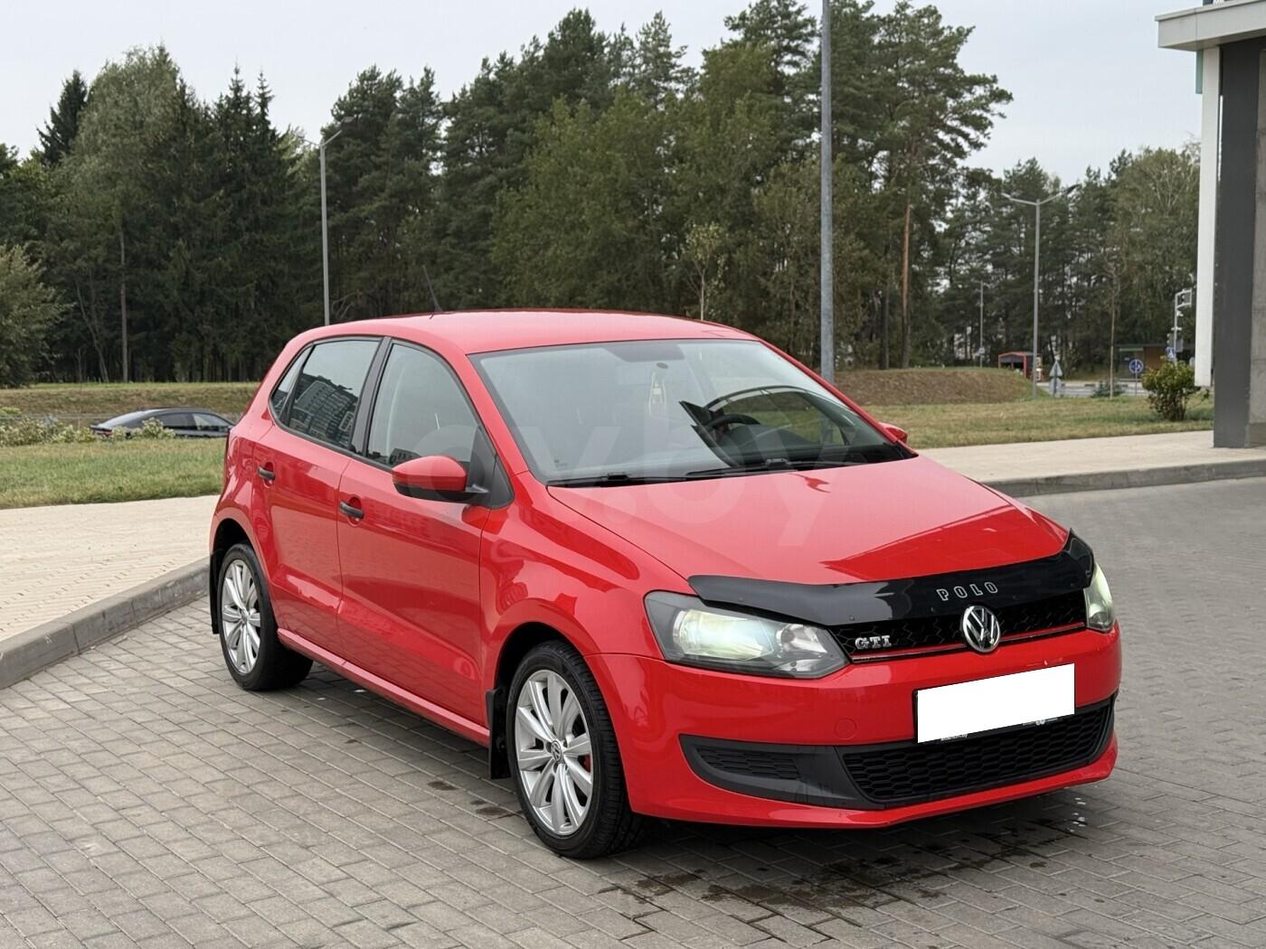Polo_2009-2015: (203, 296, 1136, 876)
